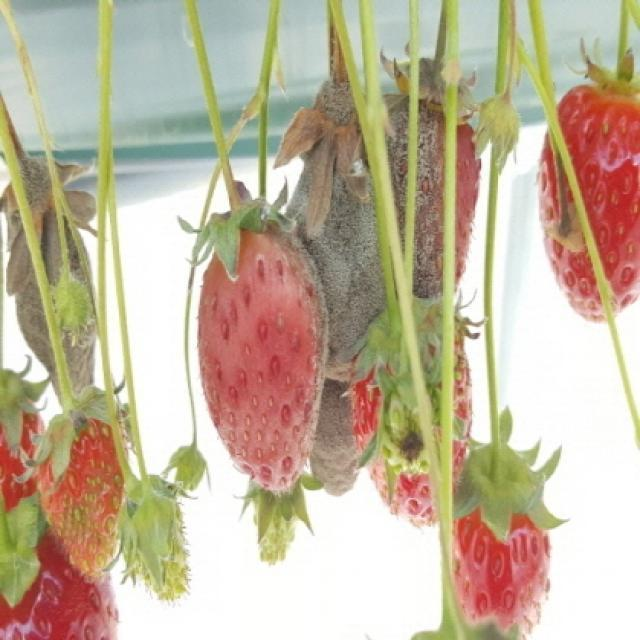Gray Mold: (198, 180, 329, 491), (275, 30, 388, 371), (0, 134, 103, 411), (379, 49, 485, 296), (310, 356, 376, 498)
